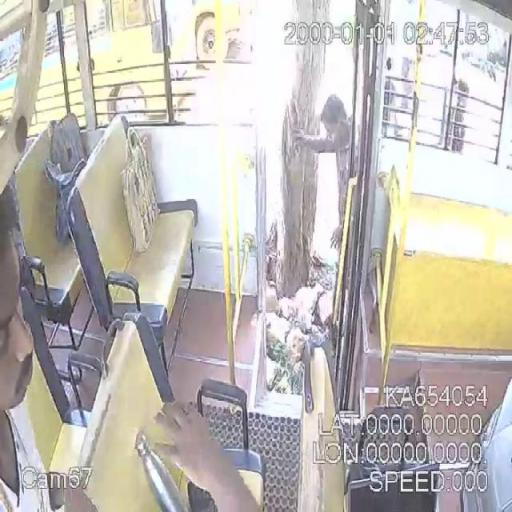persona: (0, 189, 94, 511), (289, 93, 353, 250)
